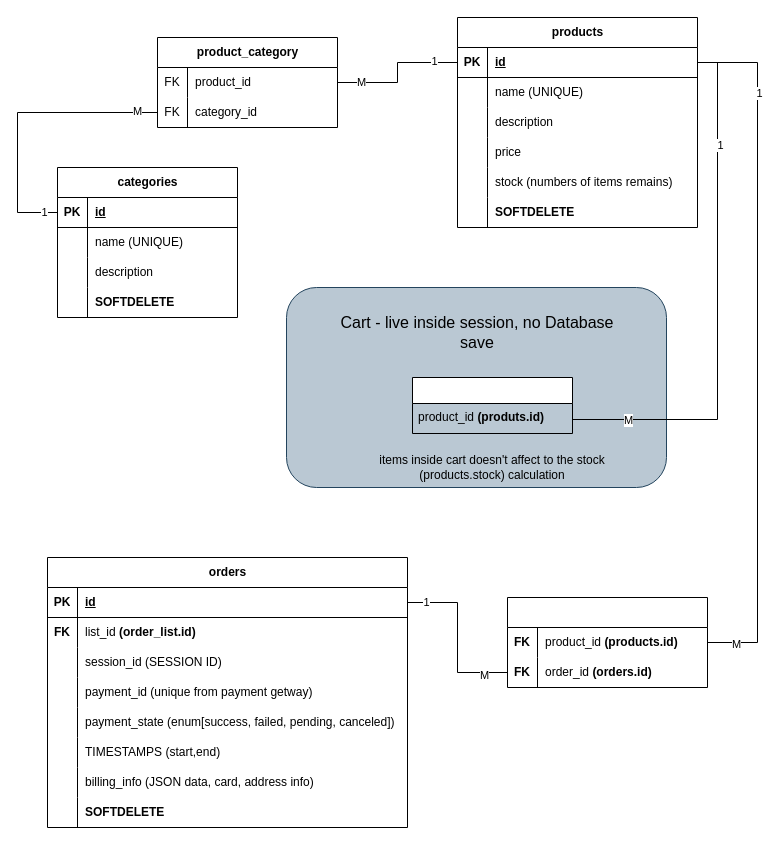
Image size: 779x845. Some labels were removed from this diagram. Here are the shapes that lost their labels. From the top down, the box of each, then its label:
(412, 376, 572, 434): cart
(506, 596, 708, 688): order_list
